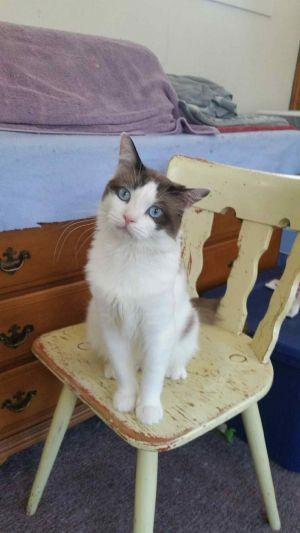ragdoll: (96, 125, 217, 259)
